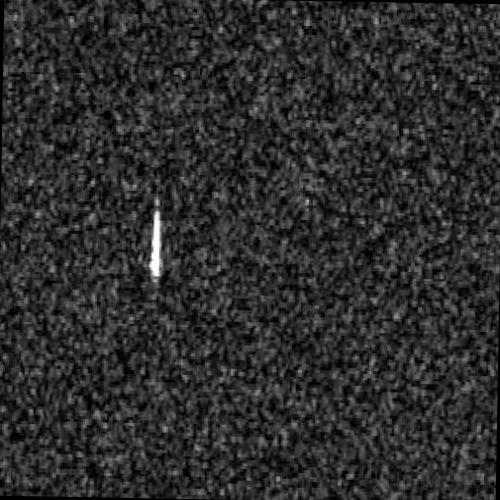ship: (150, 198, 161, 280)
